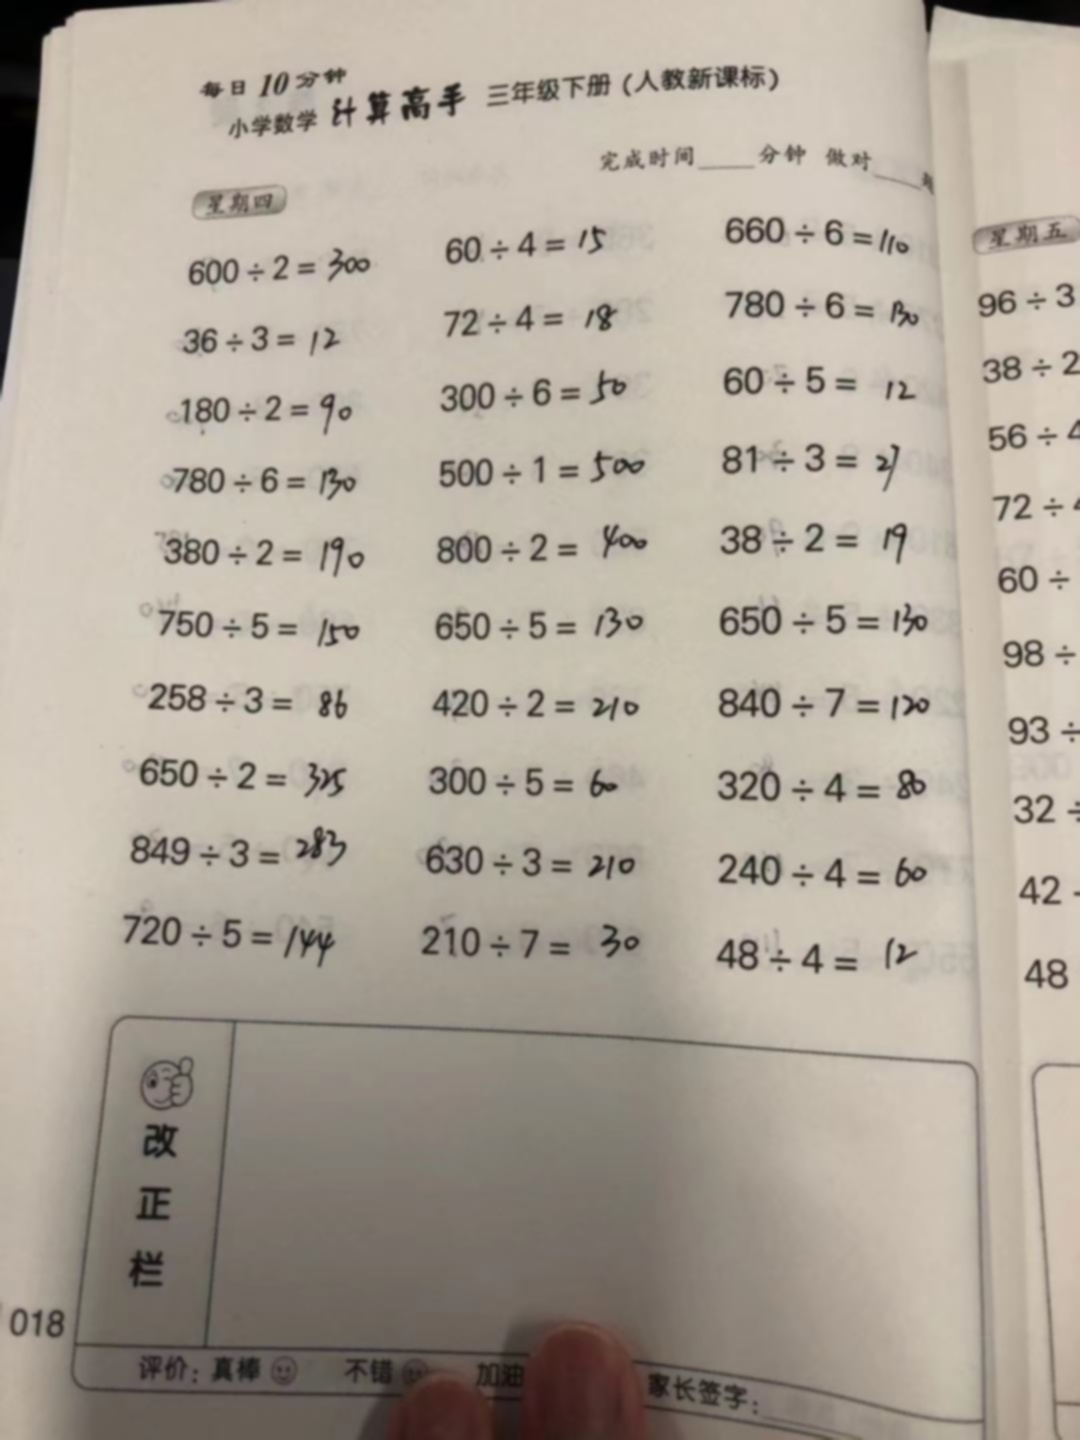equation: (113, 902, 356, 975), (702, 838, 954, 901), (711, 755, 950, 819), (705, 430, 930, 495), (421, 516, 668, 573), (150, 530, 384, 590), (410, 832, 651, 890), (128, 752, 362, 810), (401, 916, 651, 970), (422, 445, 668, 499), (708, 513, 945, 568), (410, 673, 645, 728), (421, 598, 659, 652), (704, 927, 942, 981), (153, 599, 374, 656), (125, 825, 357, 879), (694, 599, 945, 648), (145, 672, 356, 730), (430, 365, 648, 421), (411, 752, 639, 805), (722, 208, 933, 264), (716, 361, 945, 412), (171, 384, 373, 441), (702, 682, 944, 728), (437, 219, 641, 273), (154, 458, 376, 507), (177, 242, 381, 295), (719, 284, 933, 332), (434, 295, 625, 345), (173, 315, 365, 364)
